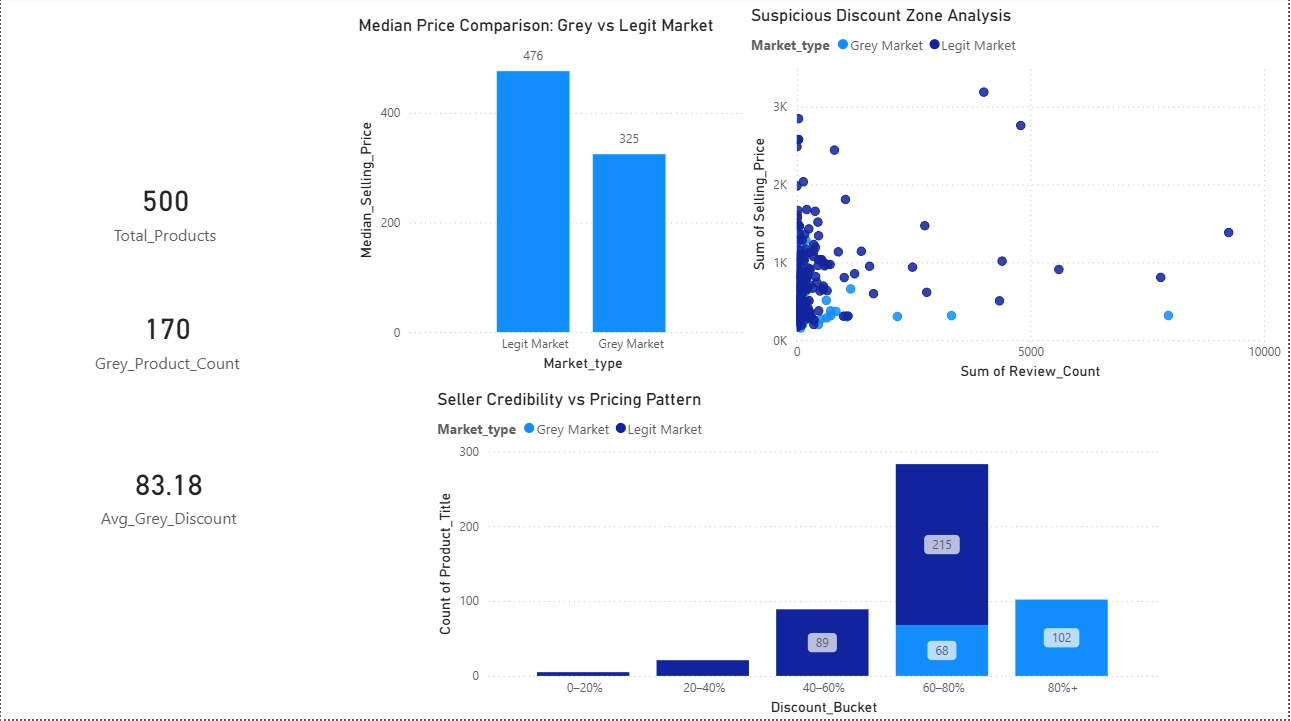

What the dashboard file says about the page in this screenshot:
{"tool":"powerbi","page":{"name":"Page 1","canvas":[1280,720],"ordinal":0},"visuals":[{"type":"card","fields":{"Values":["snapdeal_mass_dataset.Total_Products"]},"box":[23.5,132.8,279.6,160.6],"z":0},{"type":"card","fields":{"Values":["snapdeal_mass_dataset.Grey_Product_Count"]},"box":[46.2,255.2,239.4,170.6],"z":1000},{"type":"card","fields":{"Values":["snapdeal_mass_dataset.Avg_Grey_Discount"]},"box":[27.5,405.7,279.6,179.2],"z":2000},{"type":"lineClusteredColumnComboChart","title":"Median Price Comparison: Grey vs Legit Market","fields":{"Category":["snapdeal_mass_dataset.Market_type"],"Y":["snapdeal_mass_dataset.Median_Selling_Price"]},"box":[350.4,18.1,405.7,359.9],"z":3000},{"type":"lineStackedColumnComboChart","title":"Seller Credibility vs Pricing Pattern","fields":{"Category":["snapdeal_mass_dataset.Discount_Bucket"],"Series":["snapdeal_mass_dataset.Market_type"],"Y":["CountNonNull(snapdeal_mass_dataset.Product_Title)"]},"box":[428.7,390.2,728.3,329.8],"z":4000},{"type":"scatterChart","title":"Suspicious Discount Zone Analysis","fields":{"X":["Sum(snapdeal_mass_dataset.Review_Count)"],"Y":["Sum(snapdeal_mass_dataset.Selling_Price)"],"Series":["snapdeal_mass_dataset.Market_type"],"Category":["snapdeal_mass_dataset.Product_Title"]},"box":[741.2,8.6,537.6,377.6],"z":4001}]}

Visuals, with their boxes in screenshot pixels (x1, y1, x2, y2), scaled from the page's 1280x720 canvas onto the 1291x721 screenshot:
card - snapdeal_mass_dataset.Total_Products: <bbox>24, 133, 306, 294</bbox>
card - snapdeal_mass_dataset.Grey_Product_Count: <bbox>47, 256, 288, 426</bbox>
card - snapdeal_mass_dataset.Avg_Grey_Discount: <bbox>28, 406, 310, 586</bbox>
"Median Price Comparison: Grey vs Legit Market" lineClusteredColumnComboChart: <bbox>353, 18, 763, 379</bbox>
"Seller Credibility vs Pricing Pattern" lineStackedColumnComboChart: <bbox>432, 391, 1167, 720</bbox>
"Suspicious Discount Zone Analysis" scatterChart: <bbox>748, 9, 1290, 387</bbox>
